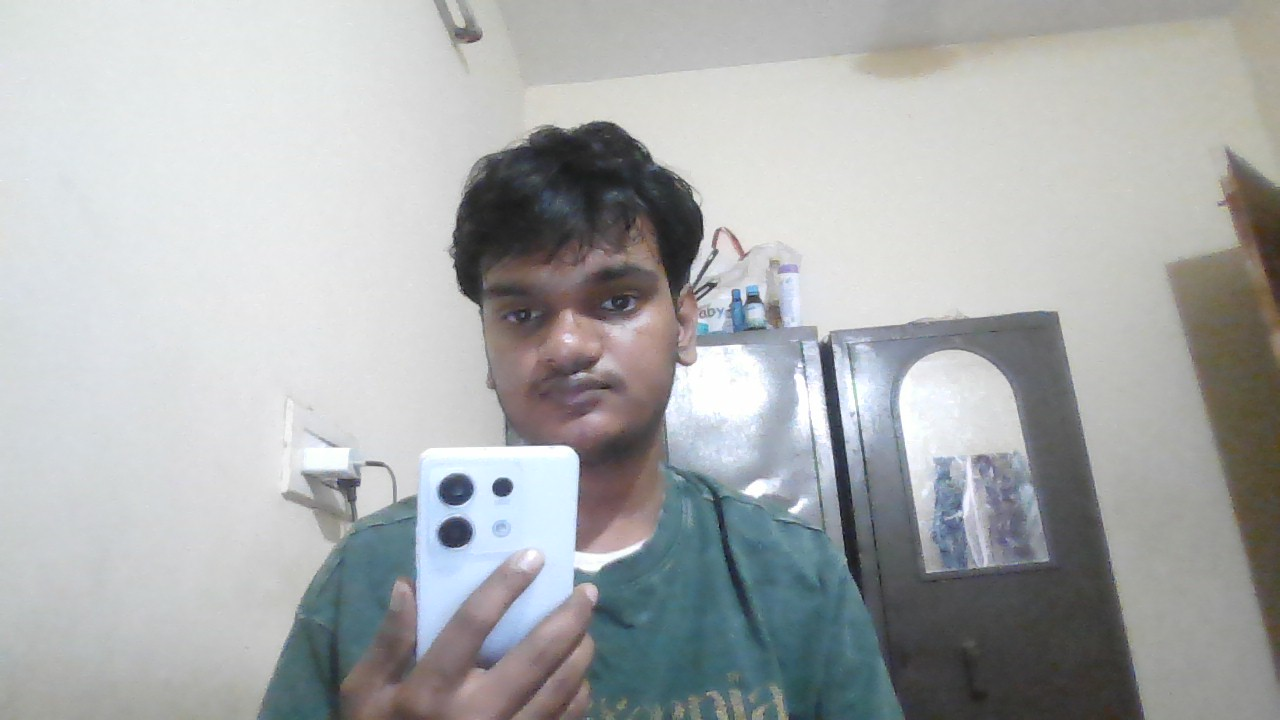phone: (417, 443, 583, 566)
